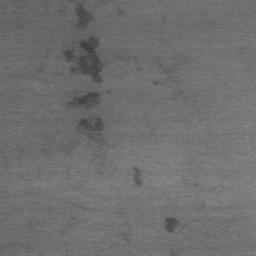Iron scale compression: (64, 37, 103, 83), (76, 118, 103, 144), (66, 92, 103, 110), (75, 7, 92, 30), (164, 218, 179, 232), (134, 167, 140, 186)
